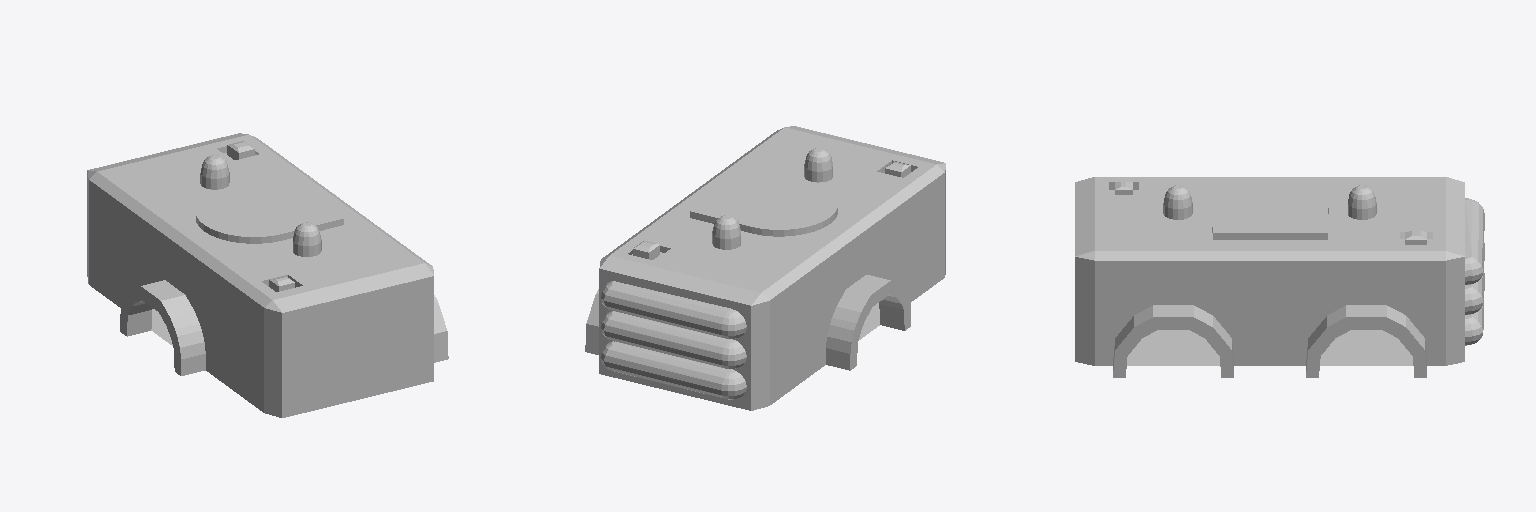
File: AndGate.obj
3 views of the same model, side by side, from view 1: azimuth 30°, elevation 25°; view 2: azimuth 150°, elevation 25°; view 3: azimuth 270°, elevation 25° (orthographic).
Parts seen in each view (by area): view 1: Gate_AND_Sphere; view 2: Gate_AND_Sphere; view 3: Gate_AND_Sphere.
Boxes of the visible parts, <box> form: Gate_AND_Sphere: <box>87,133,448,417</box>; Gate_AND_Sphere: <box>585,126,945,410</box>; Gate_AND_Sphere: <box>1075,177,1484,377</box>.
Size of the model in its own units: 2.58 by 1.56 by 4.2.